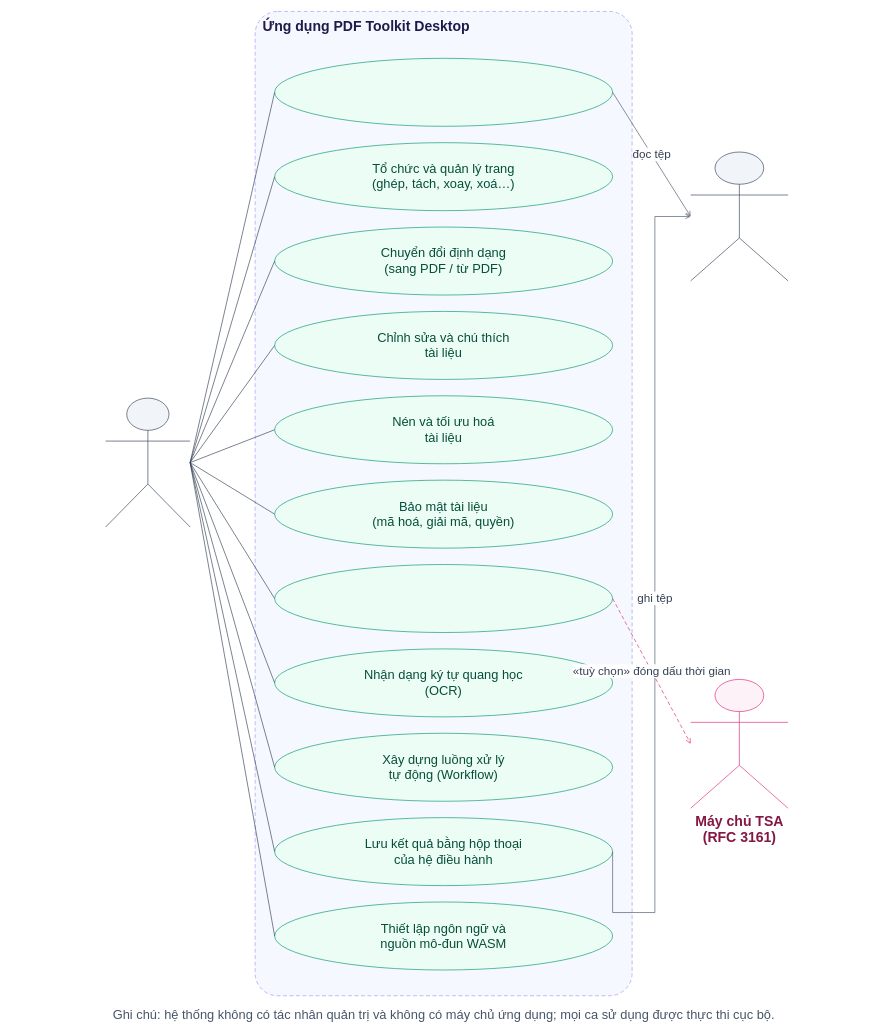
This 887x1034 diagram has some shape labels left out. Each missing label, with the centre of its shape:
"Hệ thống tệp cục bộ" belongs at (x=739, y=216).
"Ký số và kiểm tra chữ ký số" belongs at (x=443, y=598).
"Người dùng" belongs at (x=147, y=462).
"Nạp tệp đầu vào (chọn tệp / kéo–thả)" belongs at (x=443, y=92).
